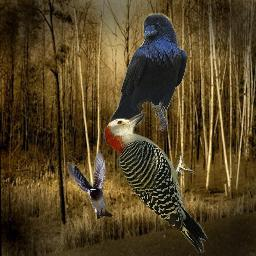Crow: (110, 13, 187, 131)
Swallow: (67, 150, 114, 219)
Woodpecker: (101, 112, 211, 254)
